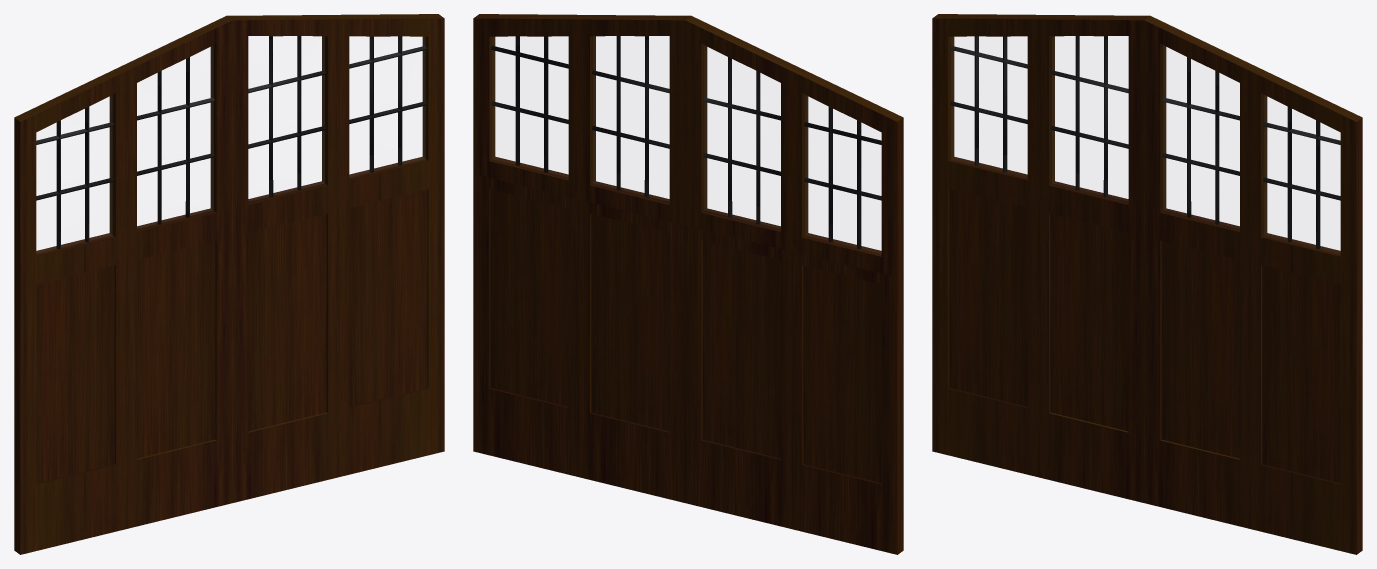
File: DoorEntranceGothic.fbx
The picture shows the model from 3 angles, left to right: view 1: azimuth 30°, elevation 25°; view 2: azimuth 150°, elevation 25°; view 3: azimuth 330°, elevation 25°; orthographic projection.
Visible parts, largest first — view 1: DoorEntranceGothicLeft, DoorEntranceGothicRight; view 2: DoorEntranceGothicLeft, DoorEntranceGothicRight; view 3: DoorEntranceGothicRight, DoorEntranceGothicLeft.
Part boxes in pixels (x1,y1,x2,y2): DoorEntranceGothicLeft: (14, 16, 232, 554); DoorEntranceGothicRight: (226, 14, 444, 502); DoorEntranceGothicLeft: (685, 16, 903, 554); DoorEntranceGothicRight: (473, 14, 691, 502); DoorEntranceGothicRight: (1144, 16, 1362, 554); DoorEntranceGothicLeft: (932, 14, 1150, 502).
Bounding box in the file's own units: 400 × 435 × 10.
